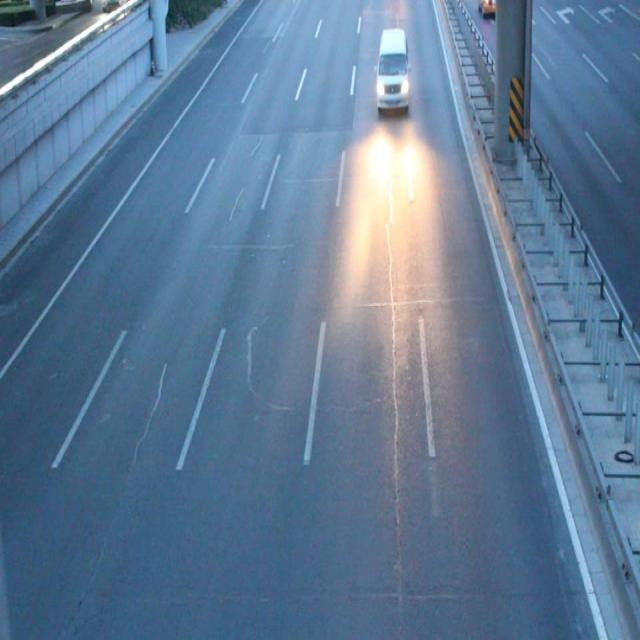car: (478, 2, 502, 15)
truck: (378, 29, 408, 110)
